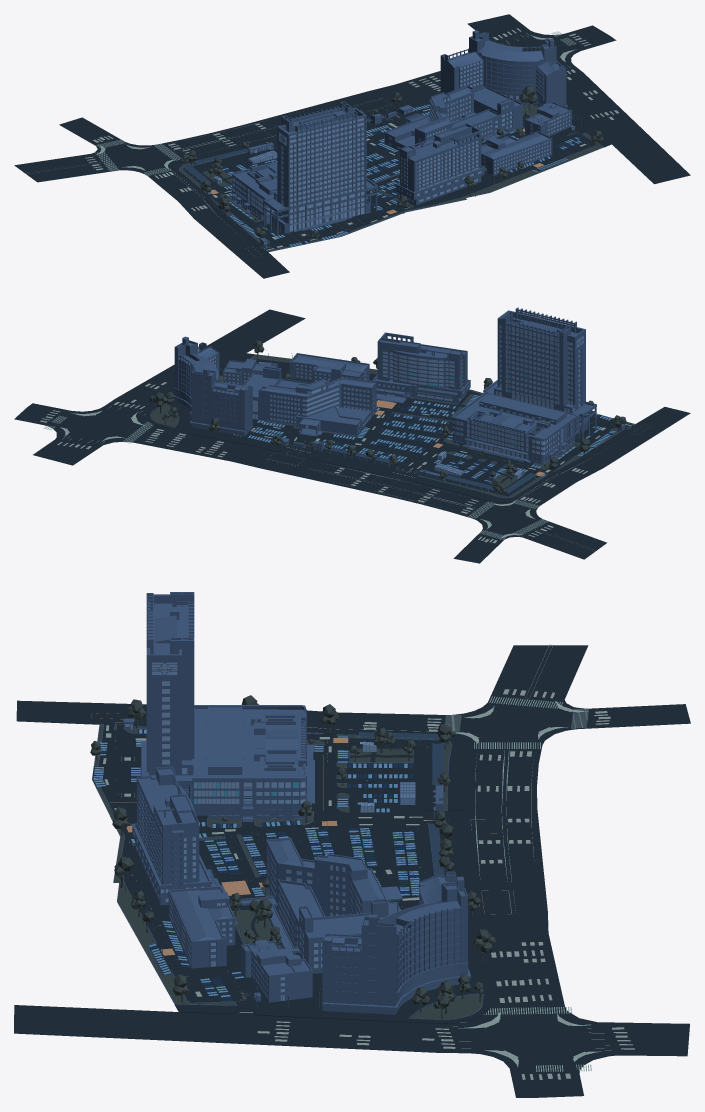
File: campus-v1.glb
The picture shows the model from 3 angles, top to bottom: view 1: azimuth 30°, elevation 25°; view 2: azimuth 150°, elevation 25°; view 3: azimuth 270°, elevation 25°; orthographic projection. The views are drawn at different scales.
Visible parts, largest first — view 1: campus-building-34, campus-ground-32, campus-ground-31, campus-ground-33, campus-window-35, campus-node-39, campus-ground-30, campus-node-8, campus-node-38, campus-ground-41, campus-ground-43, campus-node-6; view 2: campus-building-34, campus-ground-32, campus-ground-31, campus-ground-33, campus-window-35, campus-ground-30, campus-node-39, campus-node-8, campus-ground-43, campus-ground-41, campus-node-38, campus-node-6 (+1 smaller); view 3: campus-building-34, campus-ground-31, campus-ground-32, campus-ground-33, campus-node-39, campus-ground-30, campus-window-35, campus-node-8, campus-ground-41, campus-ground-43, campus-node-38, campus-node-6 (+1 smaller).
Part boxes in pixels (x1=…): campus-building-34: x1=213, y1=30, x2=575, y2=245; campus-ground-32: x1=148, y1=65, x2=647, y2=252; campus-ground-31: x1=14, y1=14, x2=690, y2=278; campus-ground-33: x1=170, y1=104, x2=596, y2=250; campus-window-35: x1=213, y1=61, x2=574, y2=243; campus-node-39: x1=179, y1=86, x2=603, y2=251; campus-ground-30: x1=171, y1=92, x2=611, y2=246; campus-node-8: x1=208, y1=104, x2=581, y2=246; campus-node-38: x1=179, y1=105, x2=603, y2=252; campus-ground-41: x1=85, y1=28, x2=618, y2=210; campus-ground-43: x1=24, y1=31, x2=576, y2=219; campus-node-6: x1=223, y1=127, x2=583, y2=244; campus-building-34: x1=173, y1=307, x2=625, y2=480; campus-ground-32: x1=104, y1=345, x2=649, y2=518; campus-ground-31: x1=14, y1=309, x2=690, y2=563; campus-ground-33: x1=191, y1=358, x2=632, y2=500; campus-window-35: x1=210, y1=325, x2=583, y2=478; campus-ground-30: x1=145, y1=353, x2=627, y2=502; campus-node-39: x1=149, y1=340, x2=633, y2=497; campus-node-8: x1=248, y1=368, x2=615, y2=481; campus-ground-43: x1=43, y1=406, x2=585, y2=539; campus-ground-41: x1=40, y1=382, x2=587, y2=543; campus-node-38: x1=150, y1=354, x2=634, y2=498; campus-node-6: x1=262, y1=402, x2=612, y2=482; campus-building-34: x1=123, y1=592, x2=471, y2=1014; campus-ground-31: x1=14, y1=645, x2=690, y2=1097; campus-ground-32: x1=101, y1=704, x2=564, y2=1053; campus-ground-33: x1=92, y1=724, x2=454, y2=1012; campus-node-39: x1=90, y1=695, x2=495, y2=1019; campus-ground-30: x1=125, y1=722, x2=491, y2=1023; campus-window-35: x1=125, y1=662, x2=419, y2=1000; campus-node-8: x1=93, y1=729, x2=419, y2=996; campus-ground-41: x1=257, y1=689, x2=634, y2=1079; campus-ground-43: x1=307, y1=644, x2=611, y2=1071; campus-node-38: x1=94, y1=724, x2=483, y2=1019; campus-node-6: x1=101, y1=751, x2=418, y2=1001.
Bounding box in the file's own units: 41.92 × 7.35 × 26.45.
